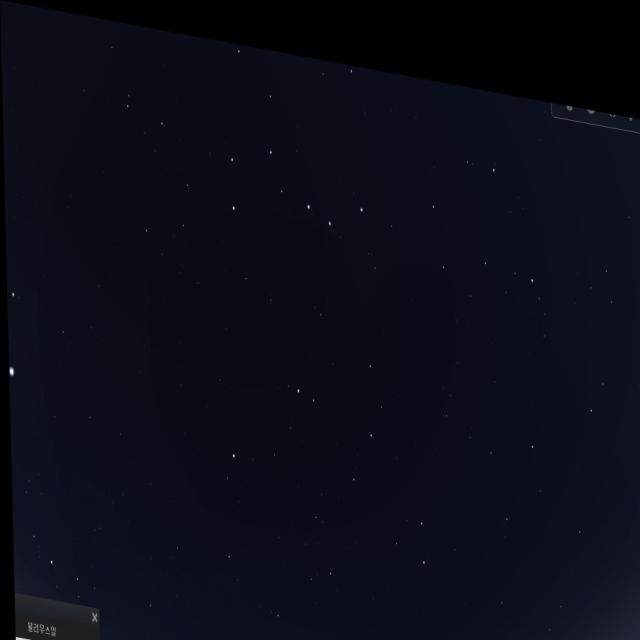ursa_major: (223, 122, 368, 246)
